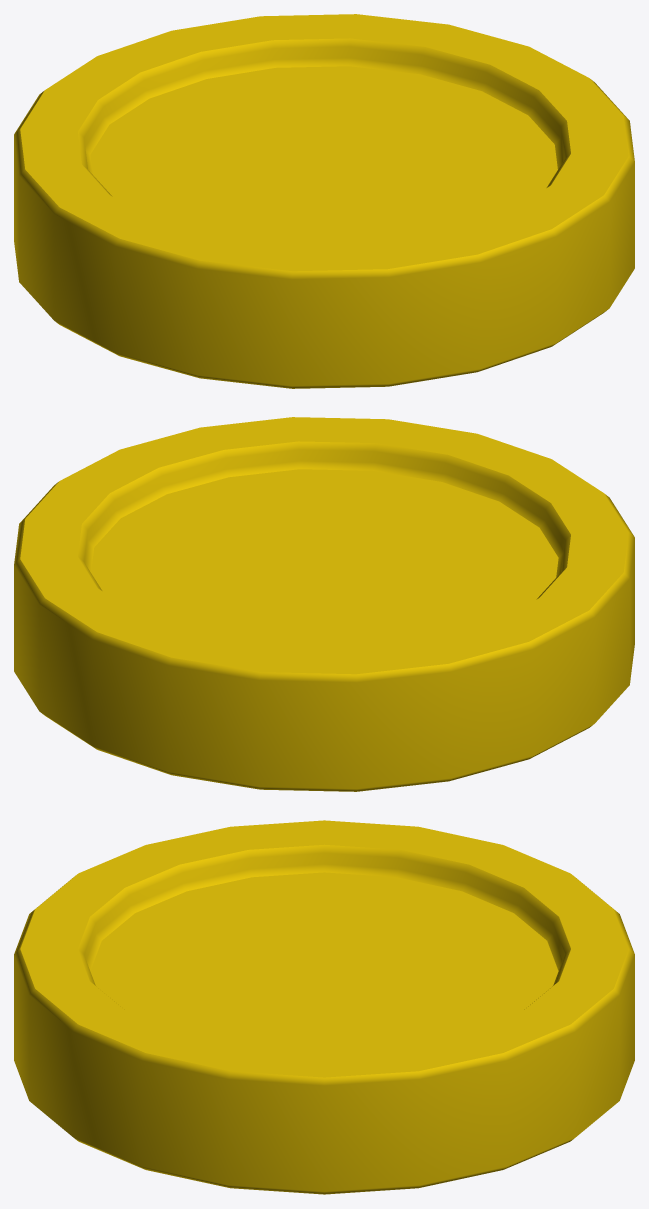
The model's file is coin.fbx.
3 views of the same model, one above another, from view 1: azimuth 30°, elevation 25°; view 2: azimuth 150°, elevation 25°; view 3: azimuth 270°, elevation 25° (orthographic).
Parts seen in each view (by area): view 1: pCylinder1; view 2: pCylinder1; view 3: pCylinder1.
Boxes of the visible parts, x1,y1,x2,y2 form: pCylinder1: (14, 14, 634, 388); pCylinder1: (14, 417, 634, 791); pCylinder1: (14, 820, 634, 1194).
Size of the model in its own units: 2.58 by 0.5369 by 2.58.
